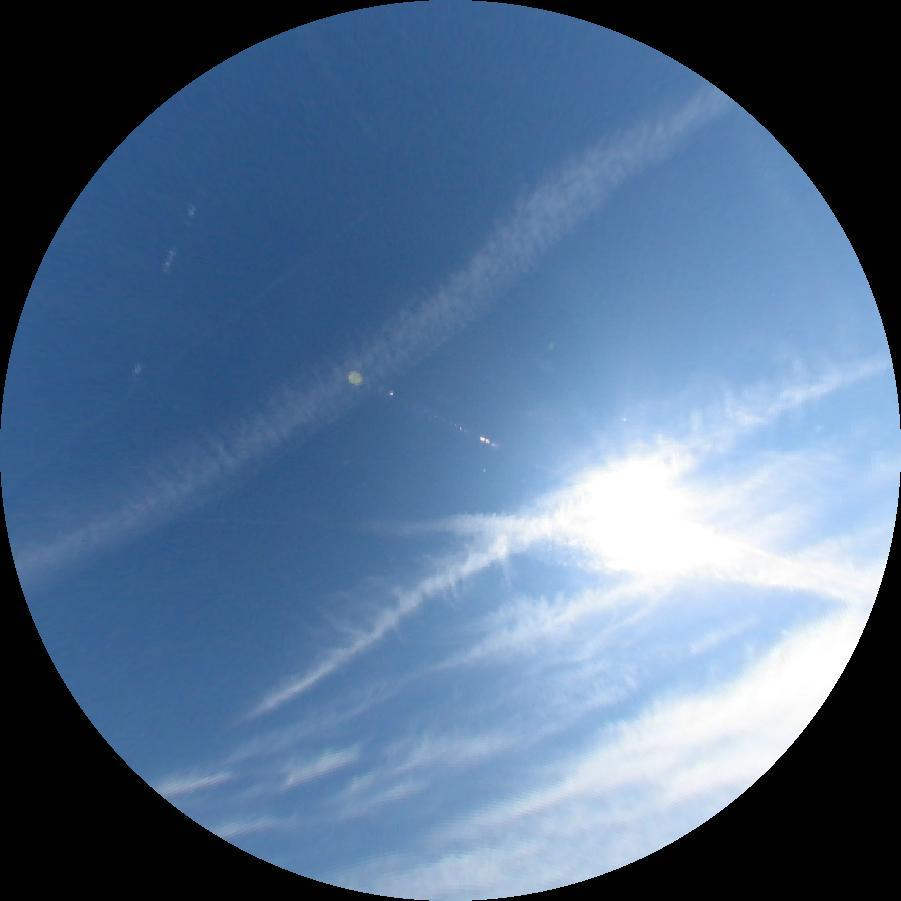contrail old: (5, 208, 373, 487)
contrail veryold: (5, 58, 753, 629), (202, 312, 894, 730), (317, 487, 864, 606)
parasite: (133, 131, 223, 366), (699, 525, 872, 594), (24, 509, 284, 524)
sun: (584, 462, 699, 564)
